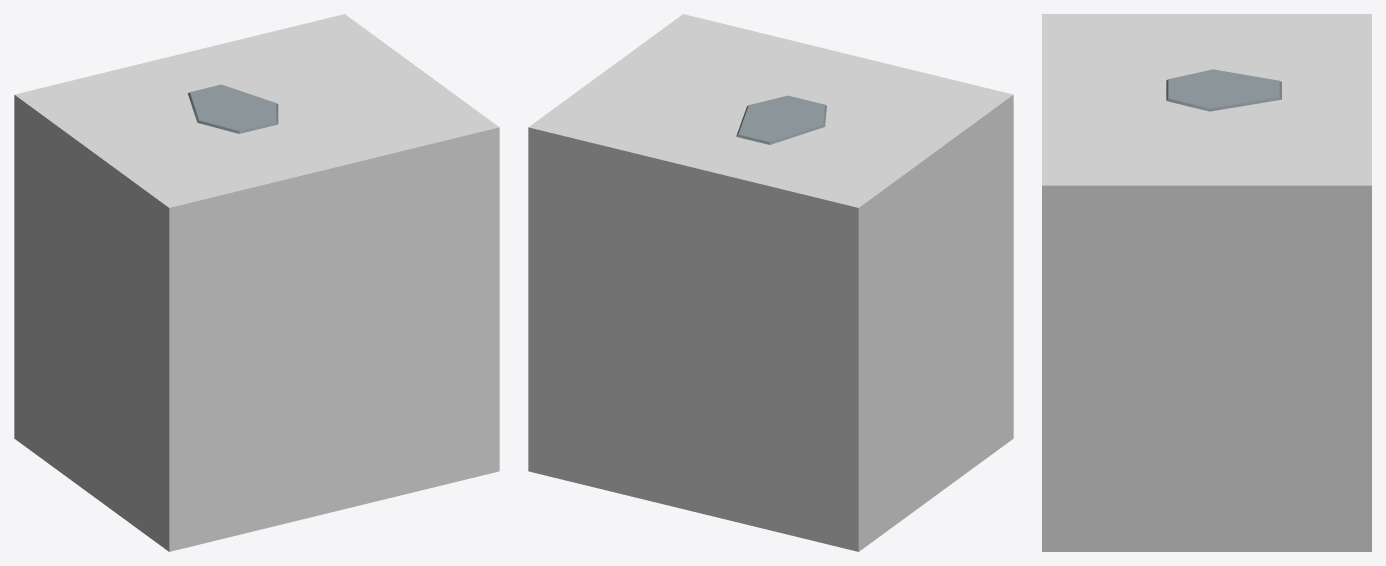
File: with_col.glb
3 renders of one model, left to right at view 1: azimuth 30°, elevation 25°; view 2: azimuth 150°, elevation 25°; view 3: azimuth 270°, elevation 25°, orthographic. The views are drawn at different scales.
Visible parts, largest first — view 1: Rock_StaticMesh_Col, Rock_StatisMesh; view 2: Rock_StaticMesh_Col, Rock_StatisMesh; view 3: Rock_StaticMesh_Col, Rock_StatisMesh.
Boxes of the visible parts, x1,y1,x2,y2 form: Rock_StaticMesh_Col: (14,14,499,551); Rock_StatisMesh: (187,84,278,133); Rock_StaticMesh_Col: (528,14,1013,551); Rock_StatisMesh: (736,95,826,144); Rock_StaticMesh_Col: (1042,14,1371,551); Rock_StatisMesh: (1166,69,1281,111).
Size of what is drawn, in the model's own units: 3.39 by 3.4 by 2.75.
Materials: 1 (1 with a texture image).
